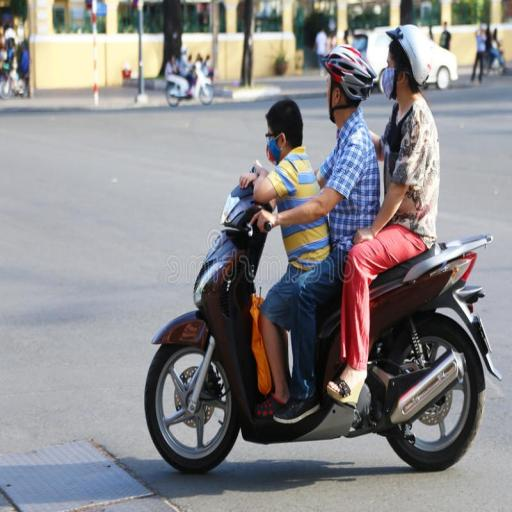overloading: (142, 177, 501, 475), (237, 24, 443, 426)
